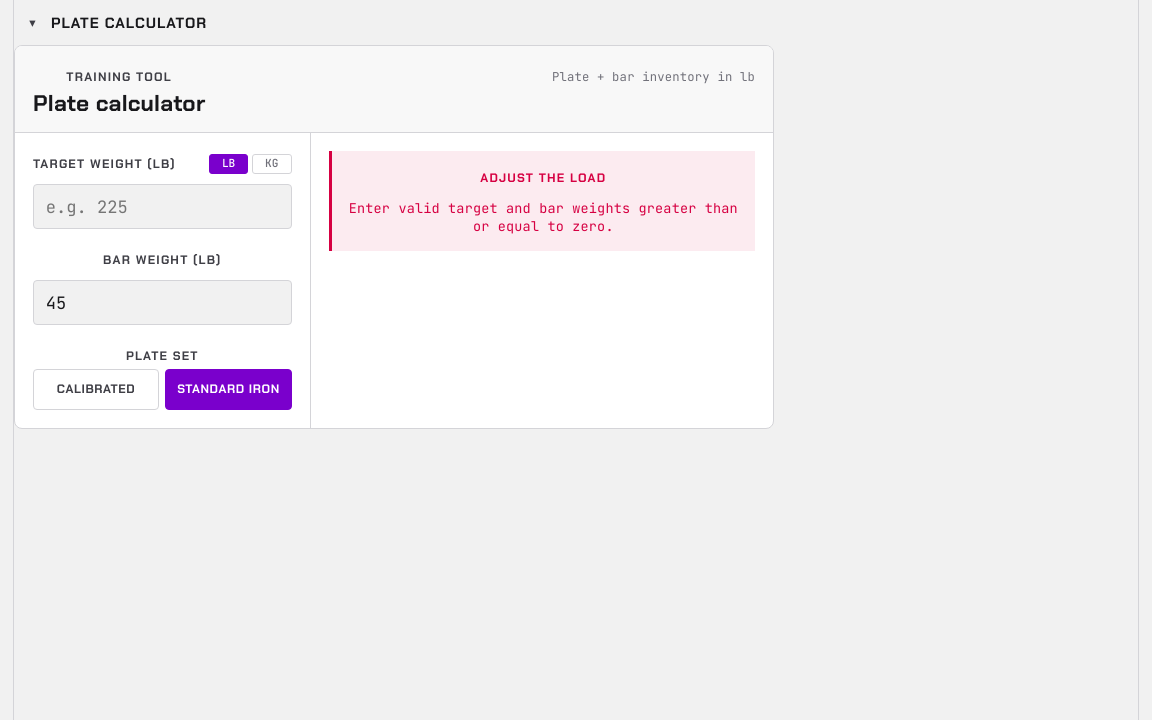
Test case: PlateCalculator › accepts a kilogram target and reports the achievable load in both units
Click the button "Calibrated" at (96, 390), box [33, 369, 159, 410]
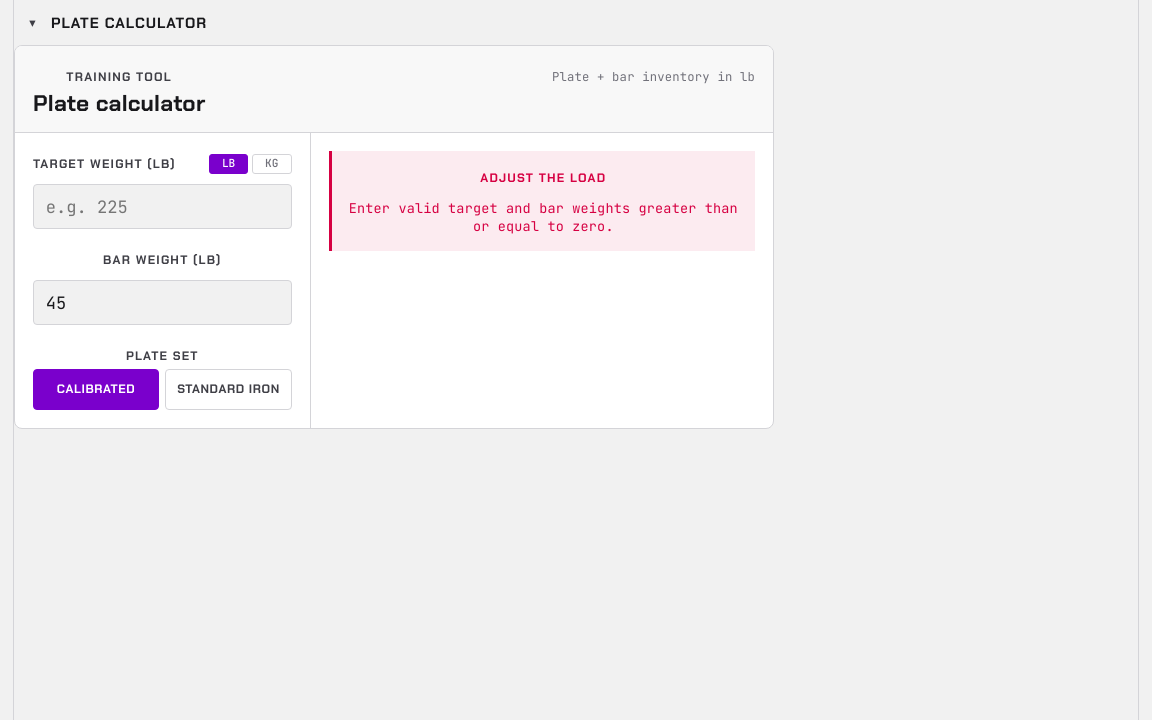
Click the button "kg" at (272, 164), box [252, 154, 292, 174]
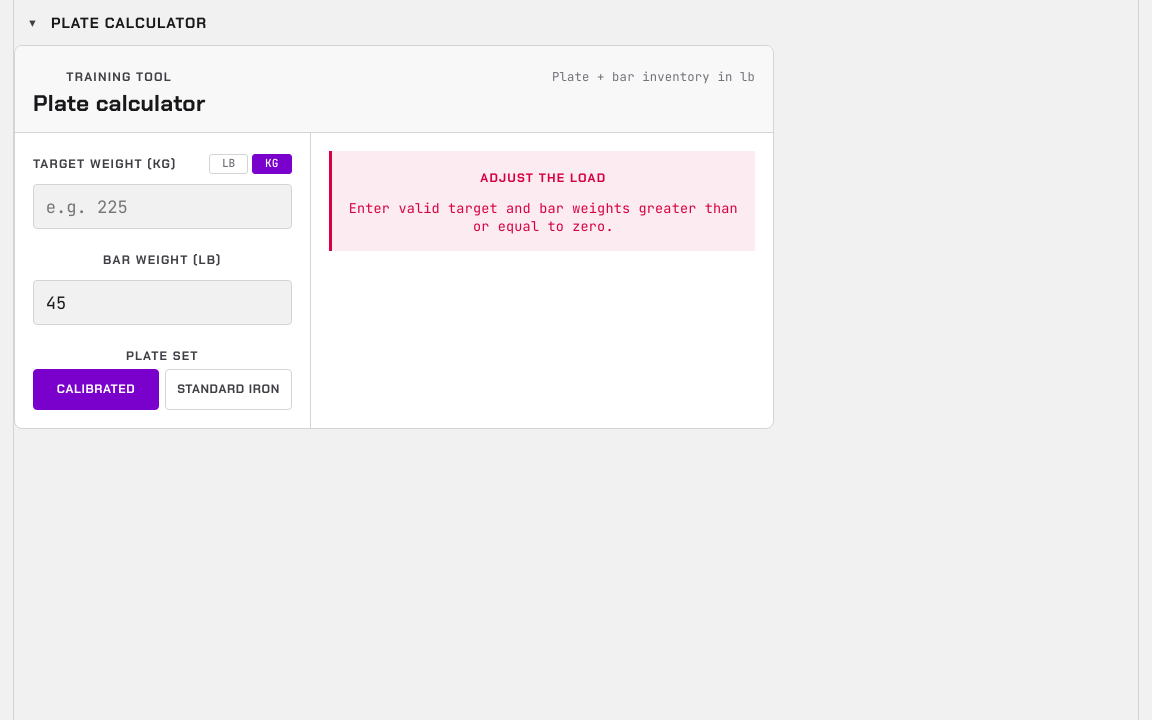
Type "200" into the number field labelled "Target weight (kg)" at (162, 207), box [33, 184, 292, 229]
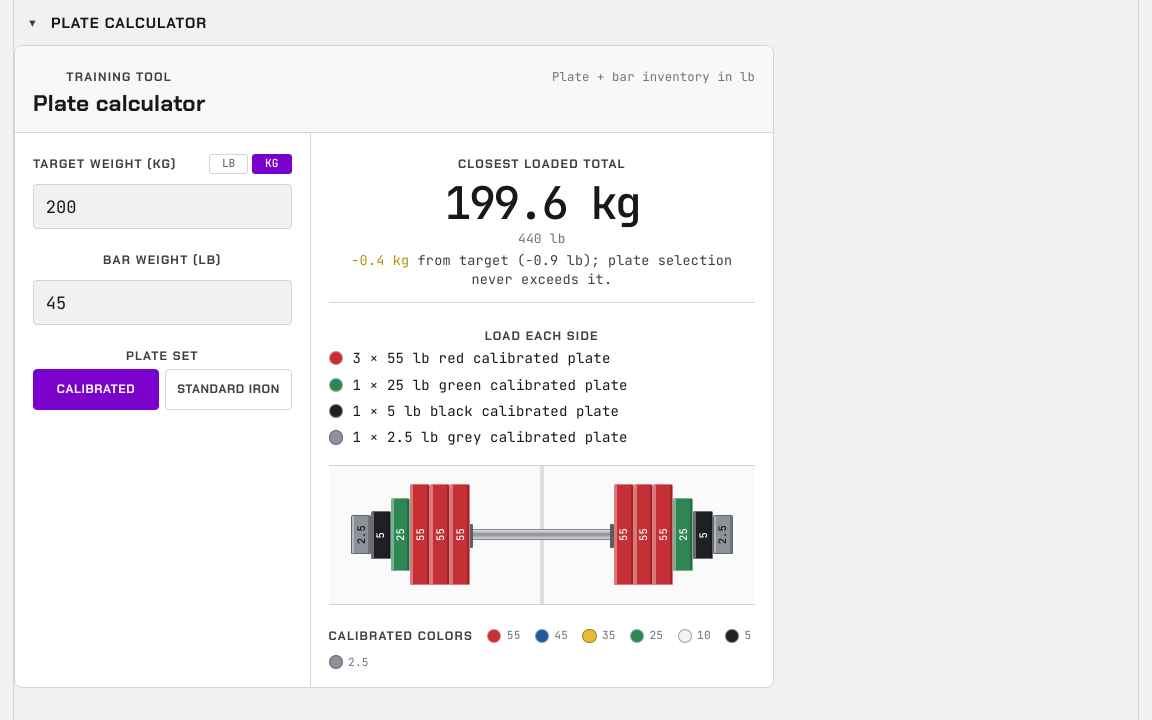
Expected: the text "199.6 kg" is shown, [445, 173, 639, 233]
Expected: the text "440 lb" is shown, [518, 230, 566, 247]
Expected: the text "−0.4 kg" is shown, [351, 251, 409, 269]
